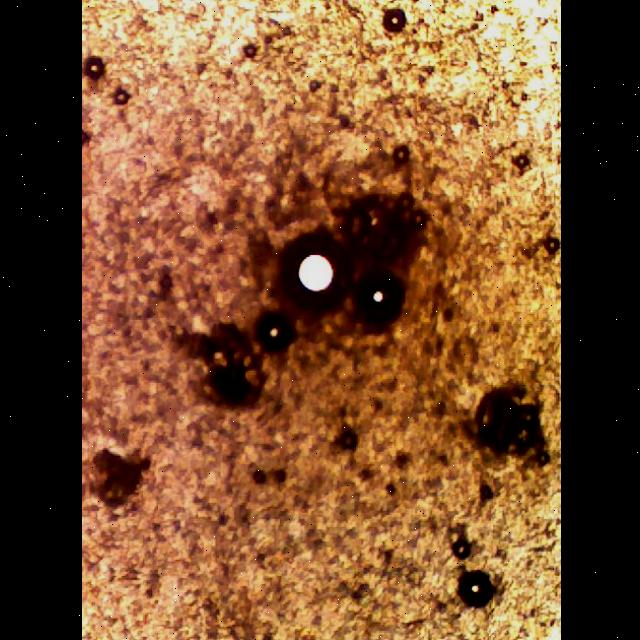Fragment: (468, 383, 548, 467)
microbeads: (277, 227, 353, 316), (346, 266, 402, 334), (450, 566, 494, 612), (248, 312, 290, 356)
